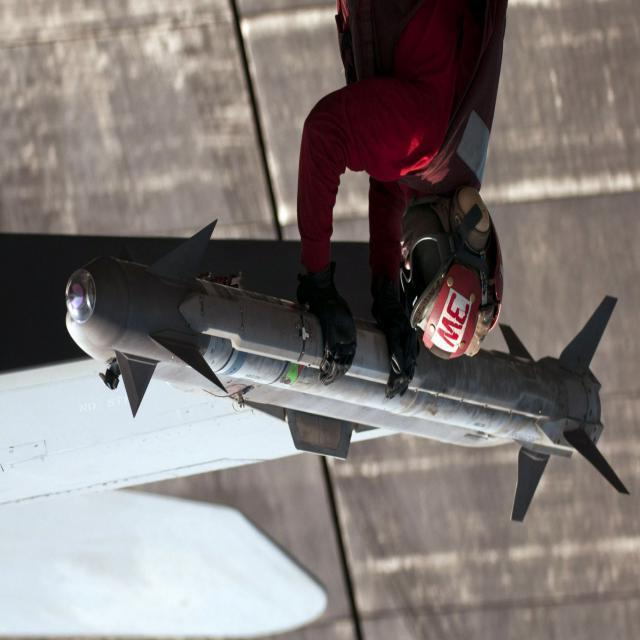Missile: (58, 254, 637, 521)
